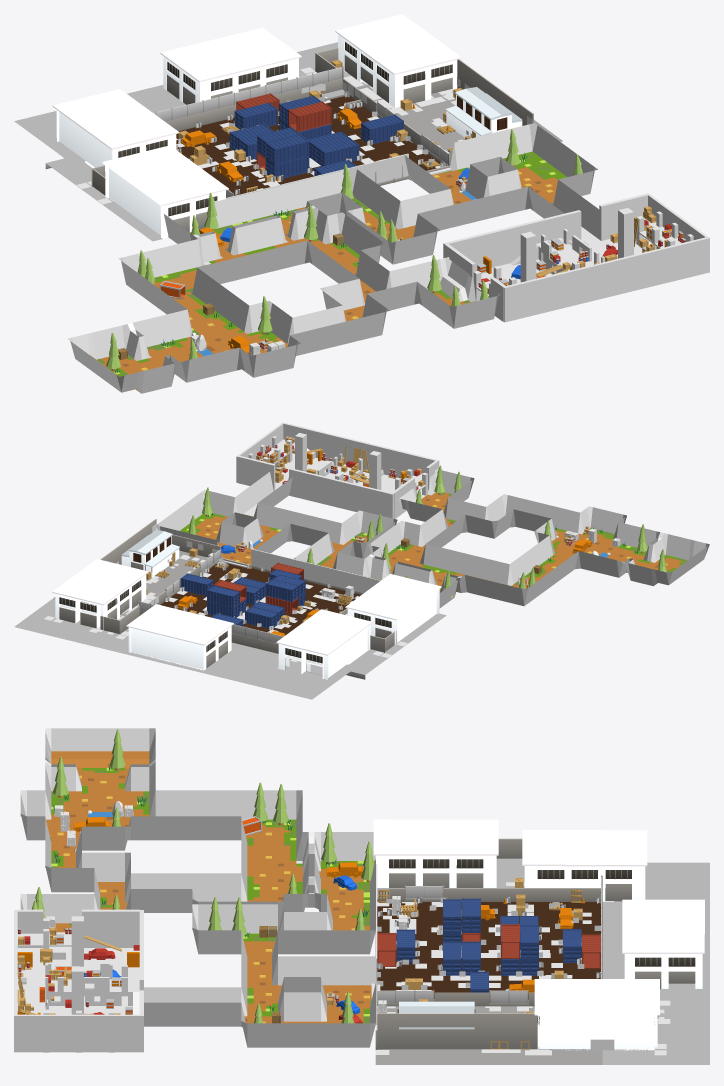
File: Mesh_Map_Yassine.fbx
3 views of the same model, one above another, from view 1: azimuth 30°, elevation 25°; view 2: azimuth 150°, elevation 25°; view 3: azimuth 270°, elevation 25° (orthographic). The views are drawn at different scales.
Visible parts, largest first — view 1: defaultMaterial.018; view 2: defaultMaterial.018; view 3: defaultMaterial.018.
Boxes of the visible parts, x1=… form: defaultMaterial.018: x1=14, y1=14, x2=709, y2=393; defaultMaterial.018: x1=14, y1=422, x2=709, y2=699; defaultMaterial.018: x1=14, y1=728, x2=709, y2=1064.
Size of the model in its own units: 7484 by 699 by 7102.
